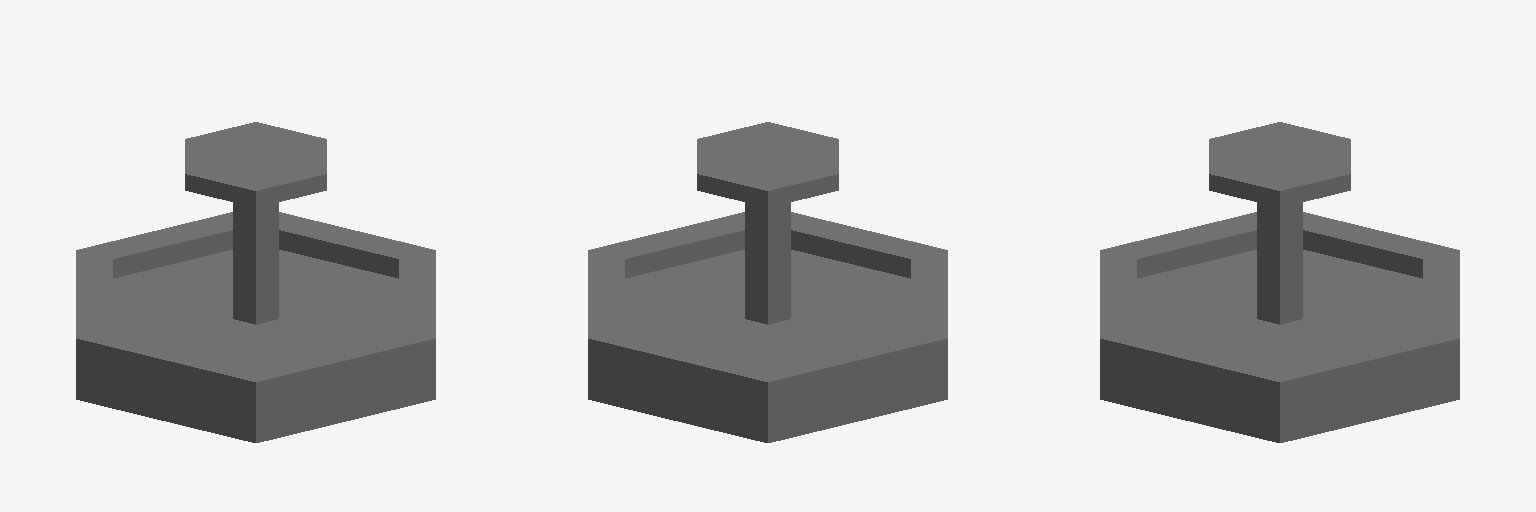
Rendered from fountainUV.obj.
The picture shows the model from 3 angles: view 1: azimuth 30°, elevation 25°; view 2: azimuth 150°, elevation 25°; view 3: azimuth 270°, elevation 25°; orthographic projection.
Parts seen in each view (by area): view 1: pCylinder1; view 2: pCylinder1; view 3: pCylinder1.
Boxes of the visible parts, <box> form: pCylinder1: <box>76,122,435,442</box>; pCylinder1: <box>588,122,947,442</box>; pCylinder1: <box>1100,122,1459,442</box>.
Size of the model in its own units: 24.33 by 12.82 by 21.07.